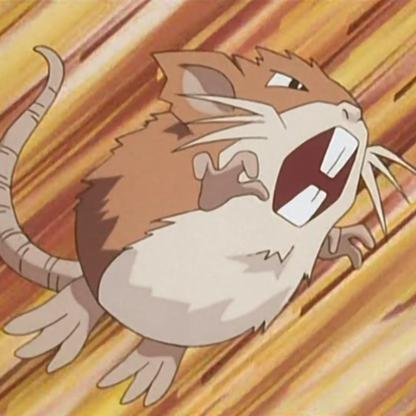Raticate: (11, 28, 404, 404)
